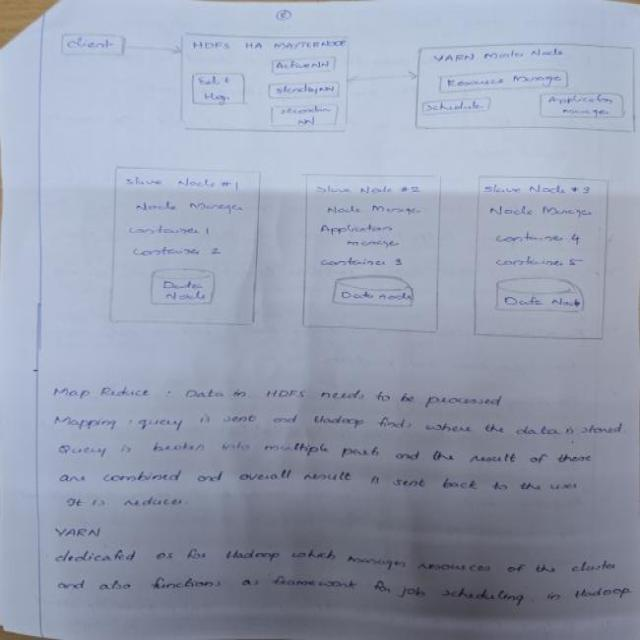Figure Detection - v3 Dataset Version2: (44, 21, 640, 346)
